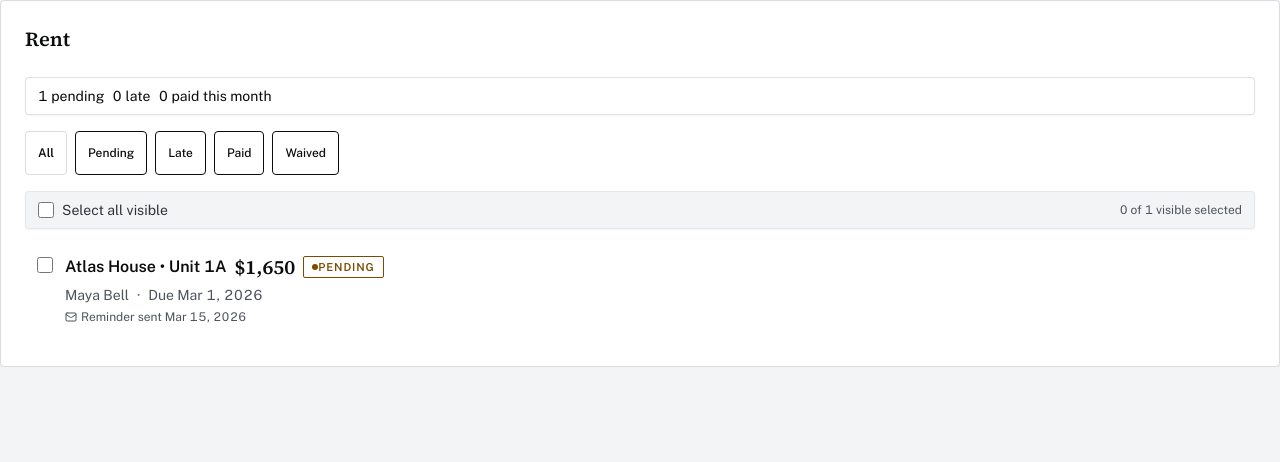
Test: ChargesSection › shows batch controls when reminder actions are enabled
Click the checkbox named "select payment for atlas house".
click(45, 265)  # box [37,257,53,273]
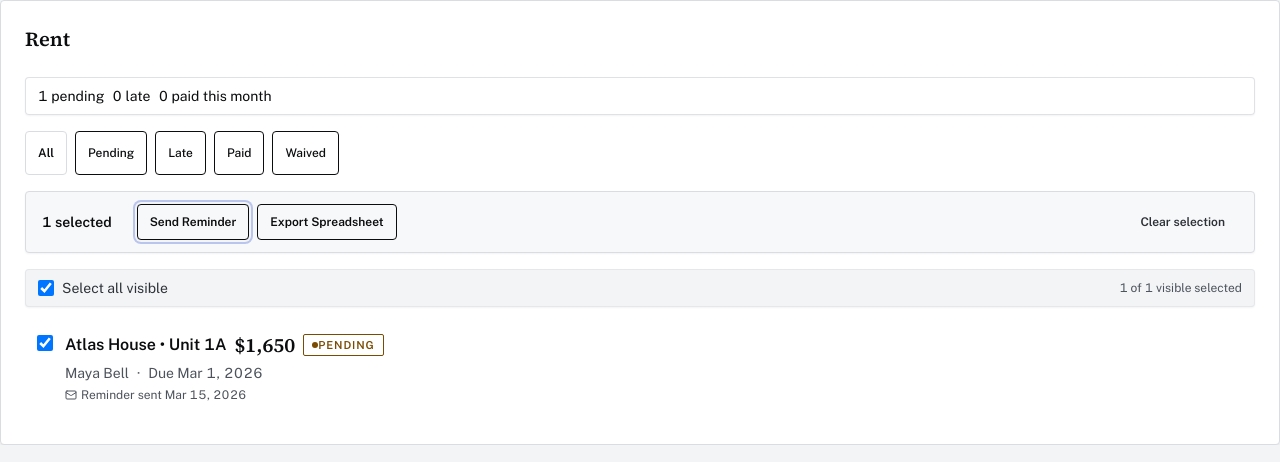
Expected: the text "1 selected" is shown, [42,212,112,232]
Expected: the button "Send Reminder" is shown, [137,204,249,240]
Expected: the button "Export Spreadsheet" is shown, [257,204,397,240]
